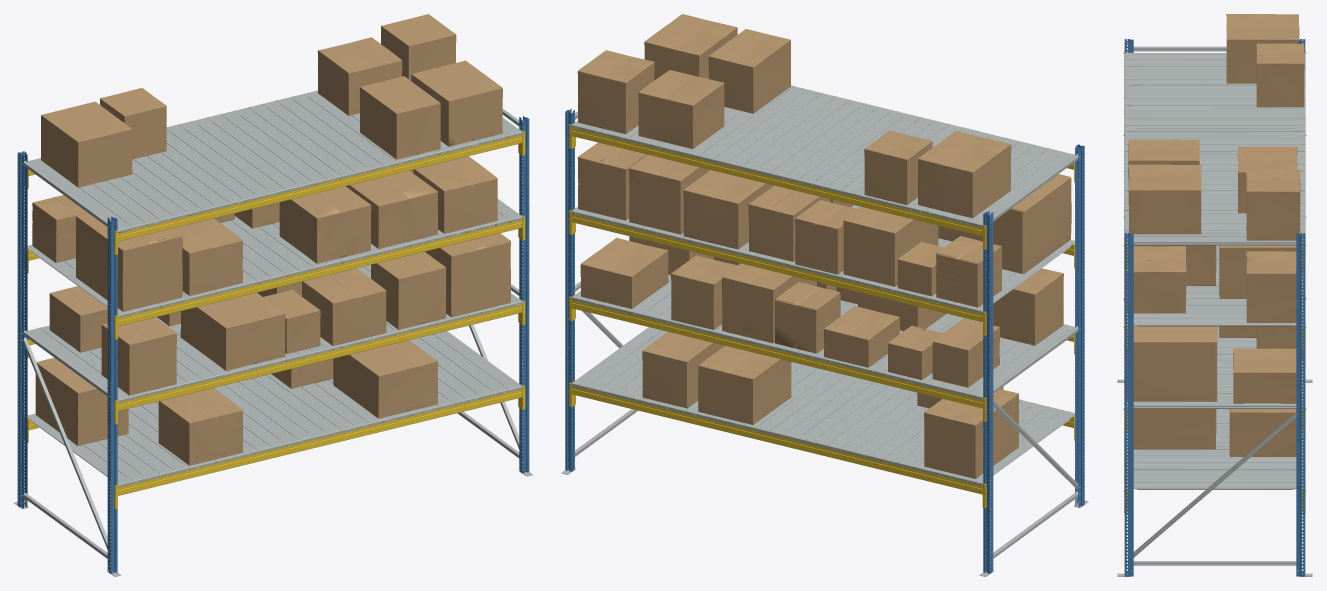
The model's file is rack_composition_l09.glb.
3 renders of one model, left to right at view 1: azimuth 30°, elevation 25°; view 2: azimuth 150°, elevation 25°; view 3: azimuth 270°, elevation 25°, orthographic. The views are drawn at different scales.
Bounding box in the file's own units: 3.1 × 2.79 × 1.3.
